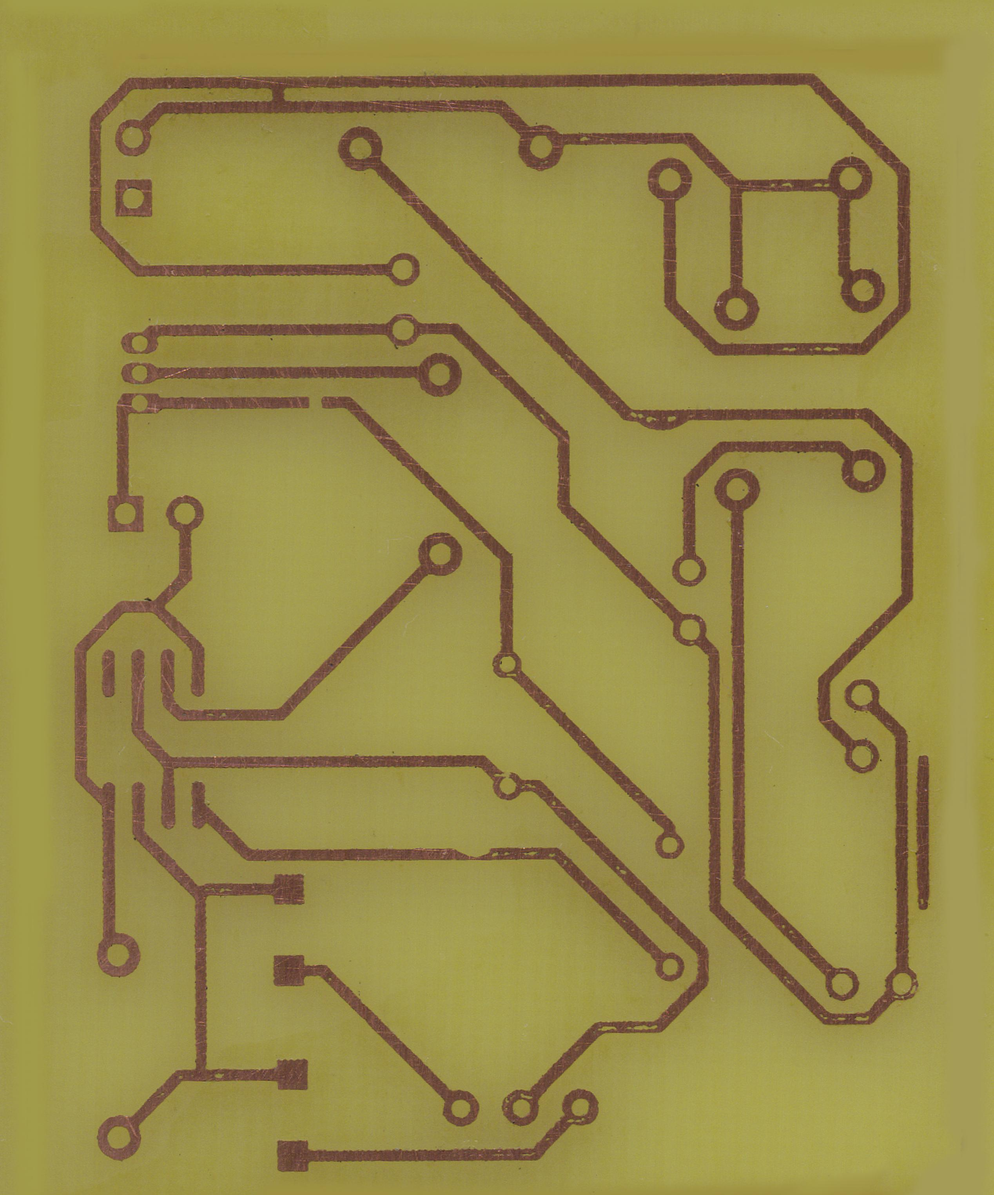missing_hole: (488, 763, 525, 799)
mouse_bite: (448, 838, 497, 865)
open_circuit: (296, 387, 336, 418)
short: (262, 72, 293, 118)
spur: (630, 399, 693, 436)
spurious_copper: (915, 747, 936, 919)
